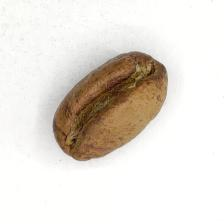NG: (60, 62, 147, 137)
